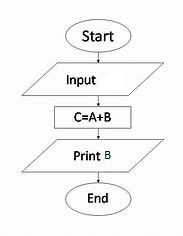arrow: (94, 126, 100, 138), (95, 171, 100, 184), (95, 50, 100, 62), (95, 94, 100, 105)
data: (18, 60, 164, 97), (20, 138, 166, 173)
process: (52, 104, 134, 129)
terminator: (62, 17, 133, 53), (62, 181, 133, 216)
text: (71, 148, 111, 161), (71, 111, 111, 123), (81, 28, 114, 42), (64, 73, 97, 87), (85, 190, 110, 203)
